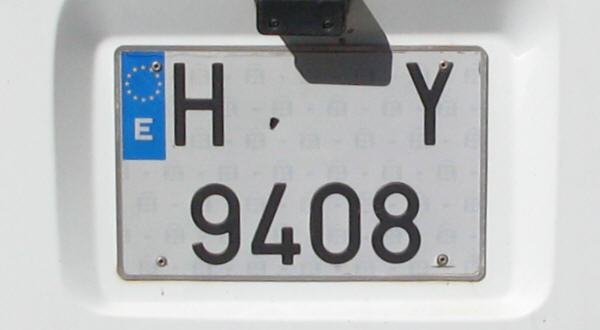license_plate: (115, 46, 487, 281)
